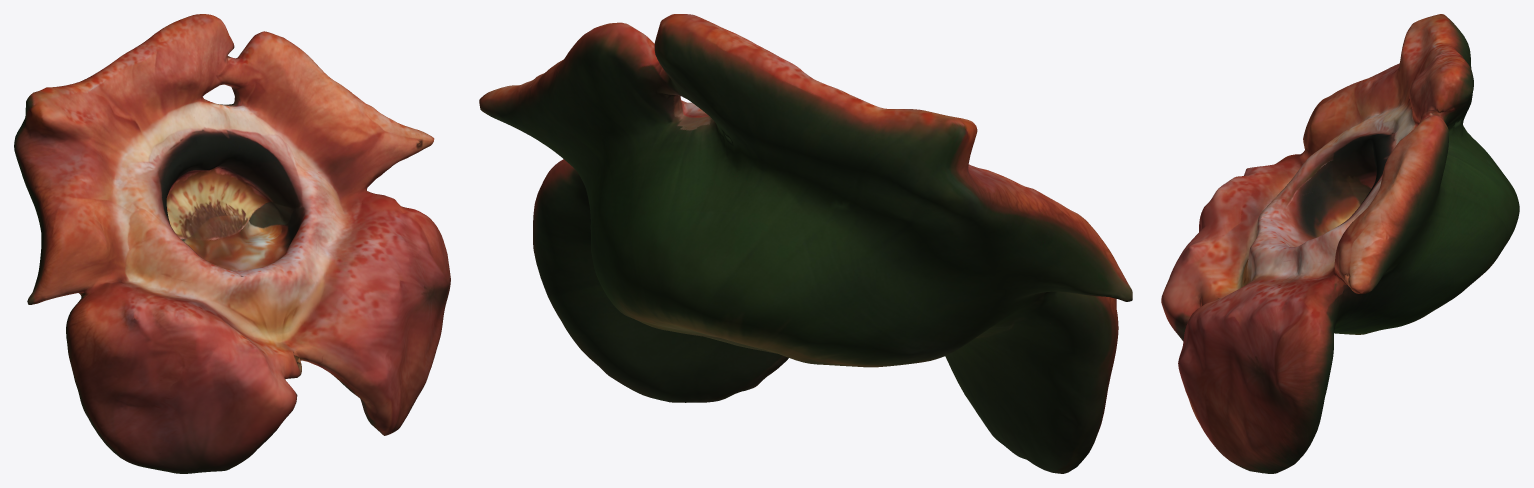
File: rafflesia_0610215850.fbx
3 views of the same model, side by side, from view 1: azimuth 30°, elevation 25°; view 2: azimuth 150°, elevation 25°; view 3: azimuth 270°, elevation 25° (orthographic). The views are drawn at different scales.
Visible parts, largest first — view 1: Mesh_0; view 2: Mesh_0; view 3: Mesh_0.
Boxes of the visible parts, x1=… form: Mesh_0: x1=14, y1=14, x2=450, y2=473; Mesh_0: x1=479, y1=14, x2=1132, y2=473; Mesh_0: x1=1161, y1=14, x2=1519, y2=473.
Size of the model in its own units: 120 by 96.72 by 87.89.
1 material, 1 textured.
